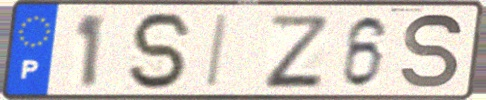1: (72, 11, 107, 91)
6: (342, 13, 388, 89)
I: (202, 12, 233, 91)
S: (126, 10, 197, 93), (398, 11, 466, 92)
Z: (262, 12, 329, 91)
